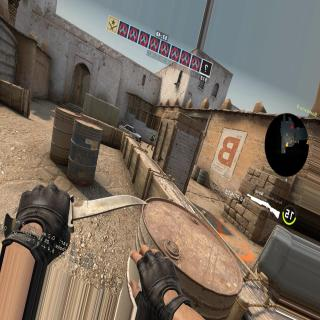CT-Body: (146, 133, 156, 148)
CT-Head: (152, 134, 155, 137)
